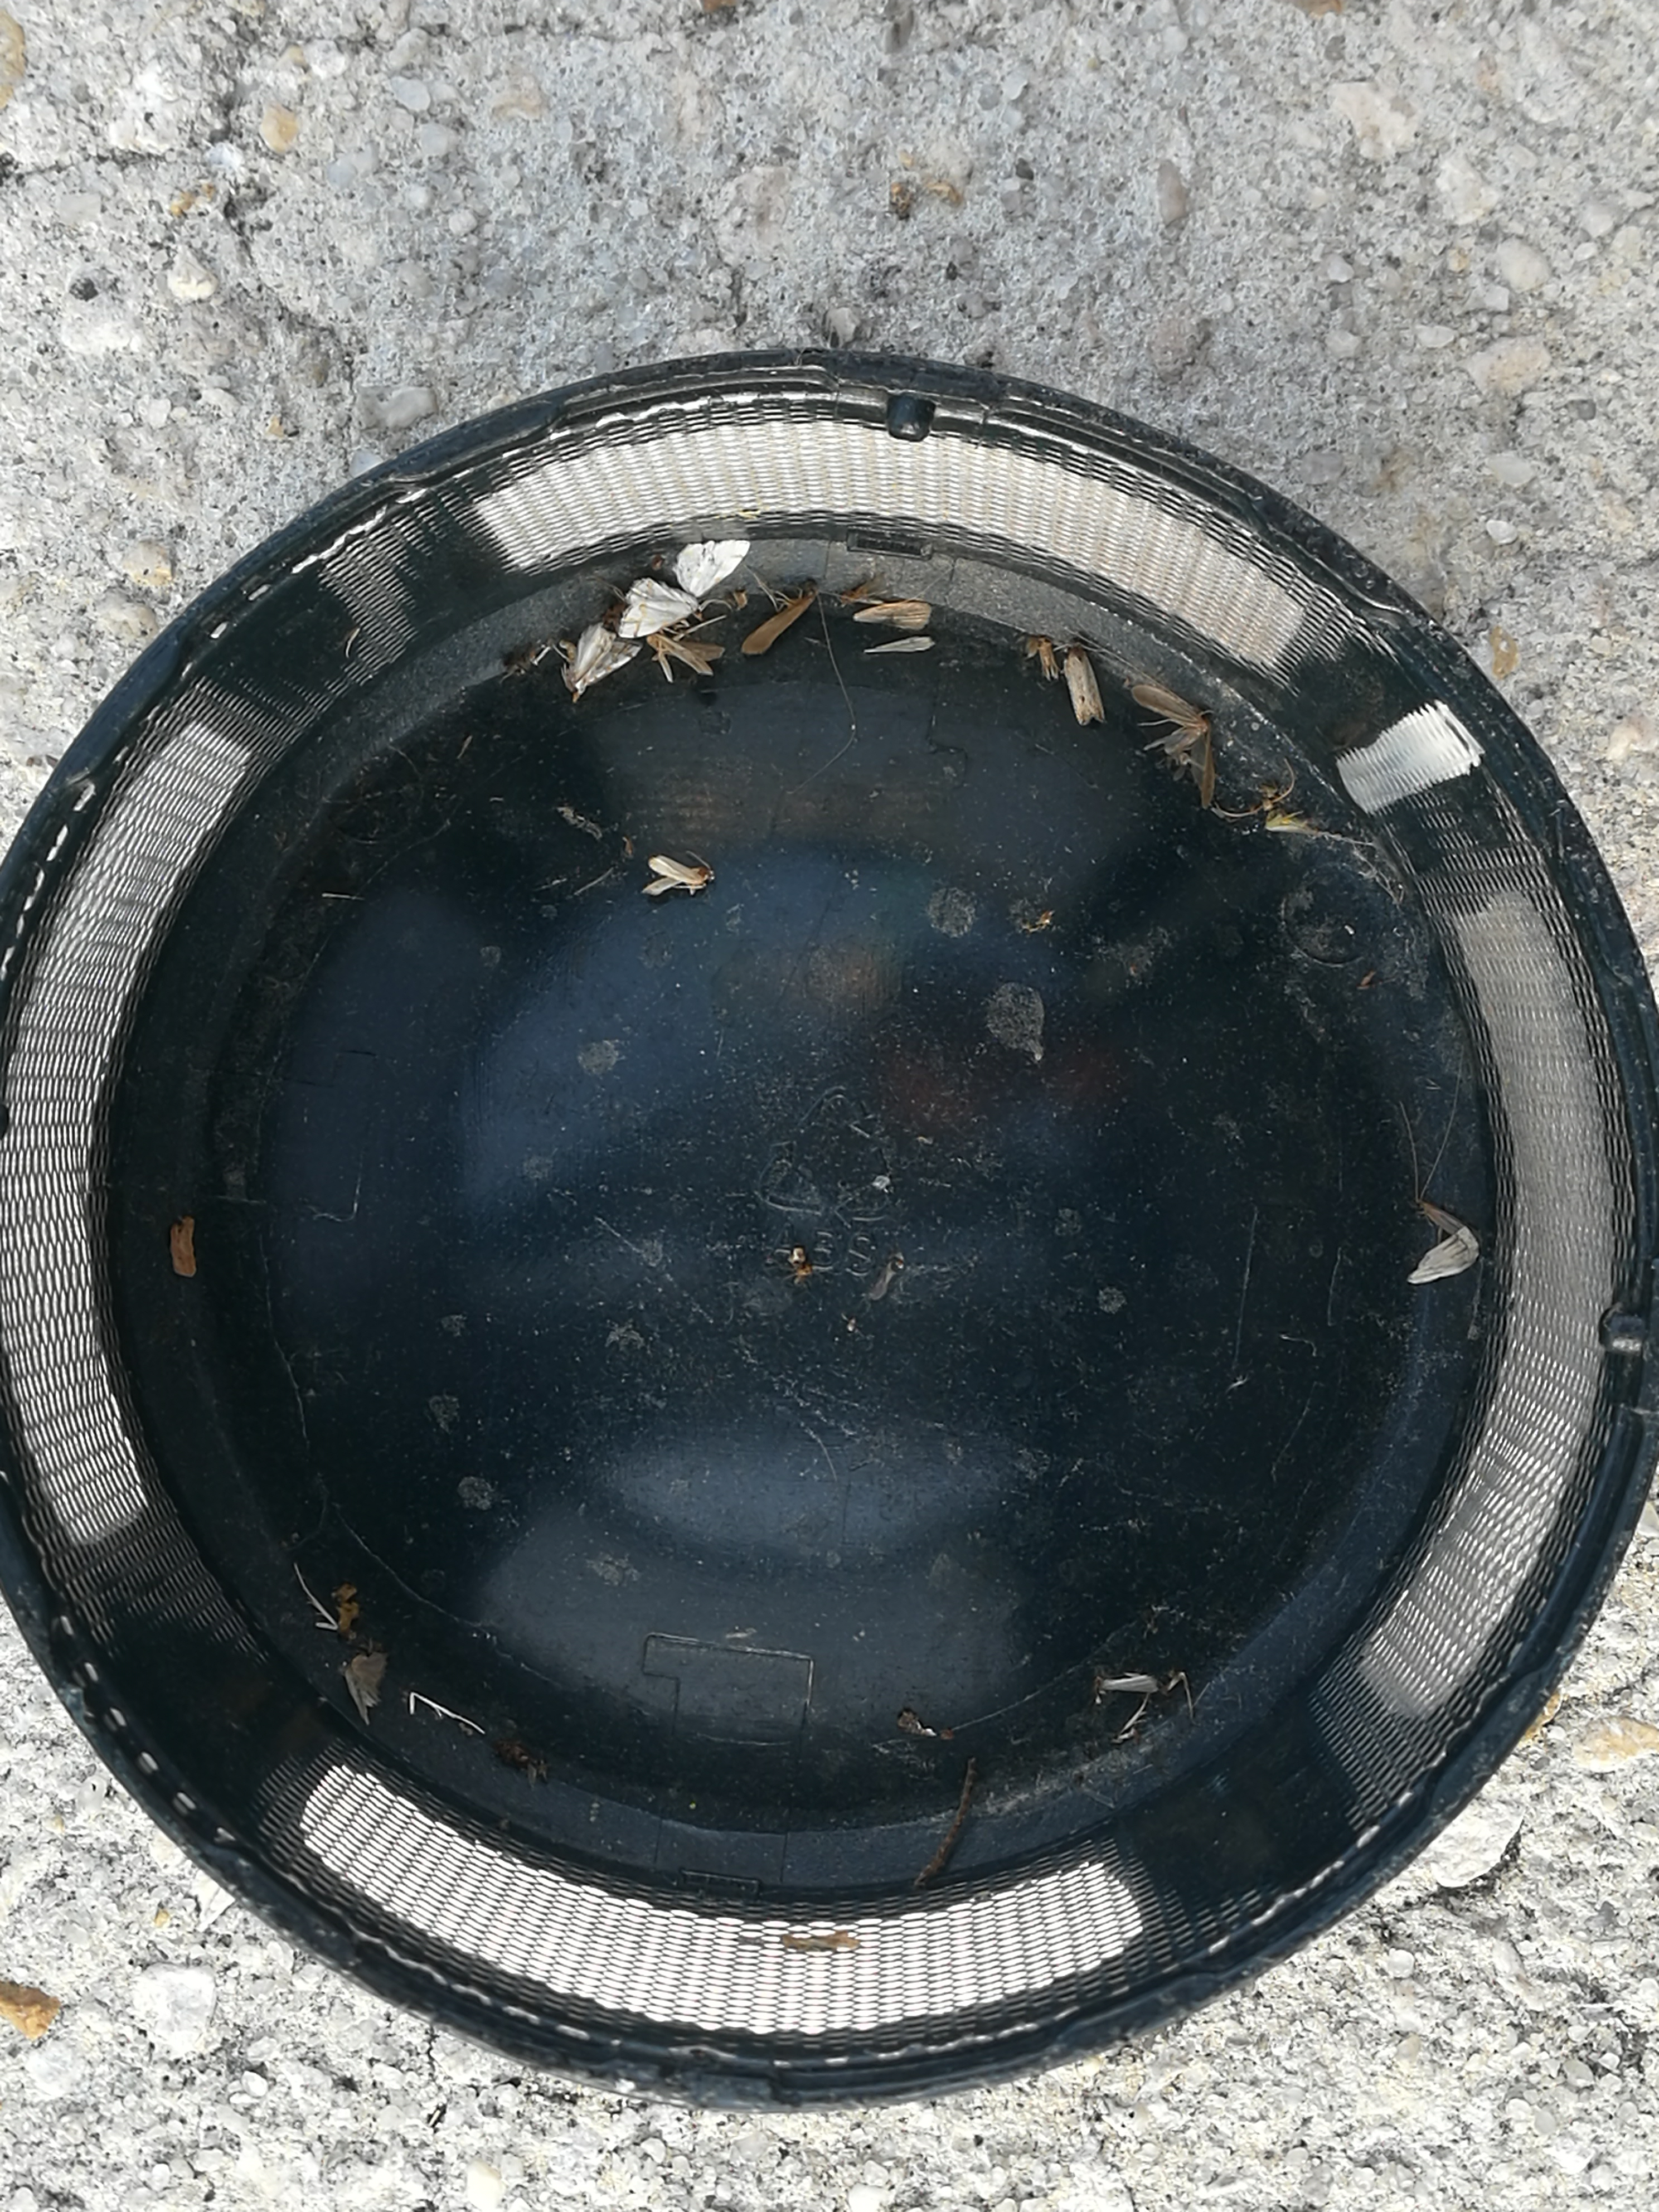mosquito: (744, 590, 821, 655), (650, 634, 721, 679), (1065, 646, 1101, 726)
moth: (619, 540, 748, 637), (1127, 686, 1215, 808), (568, 625, 643, 693)
